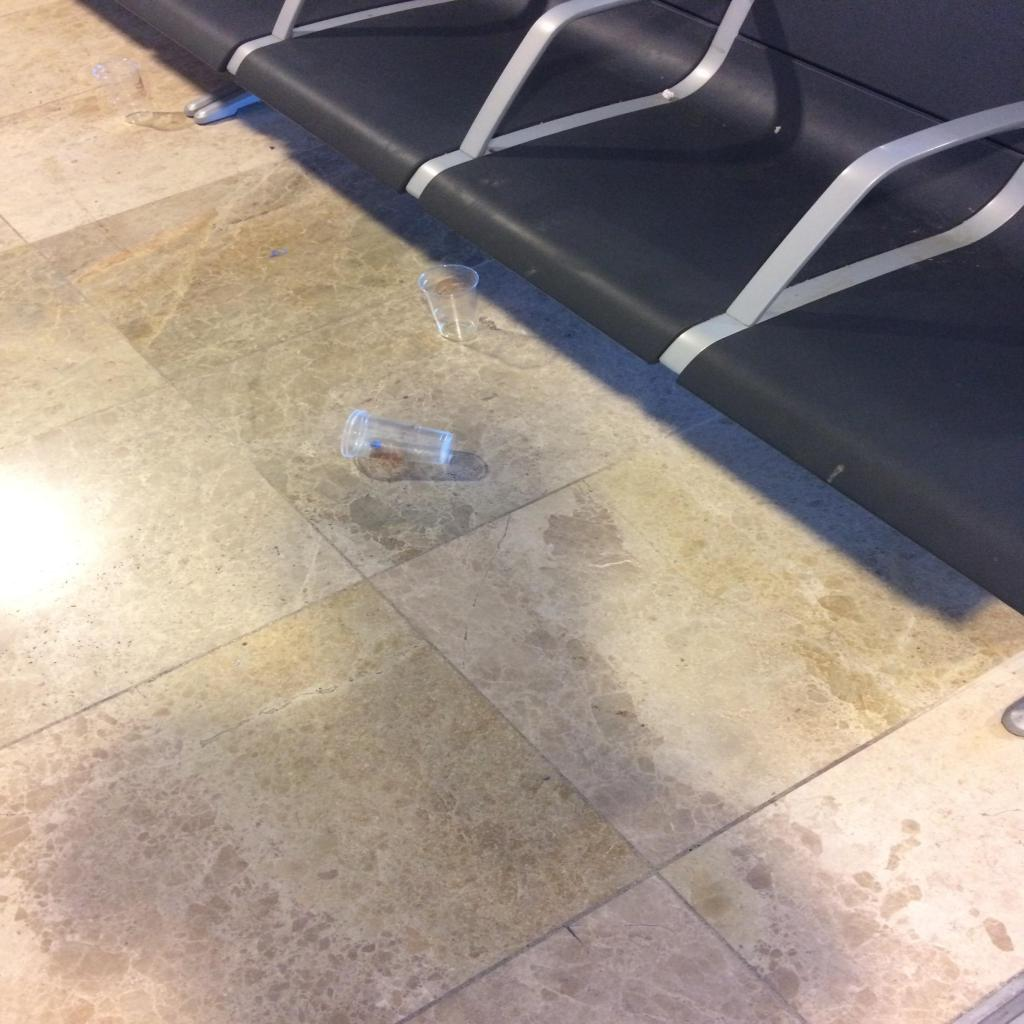Disposable plastic cup: (341, 409, 455, 465), (418, 264, 480, 340)
